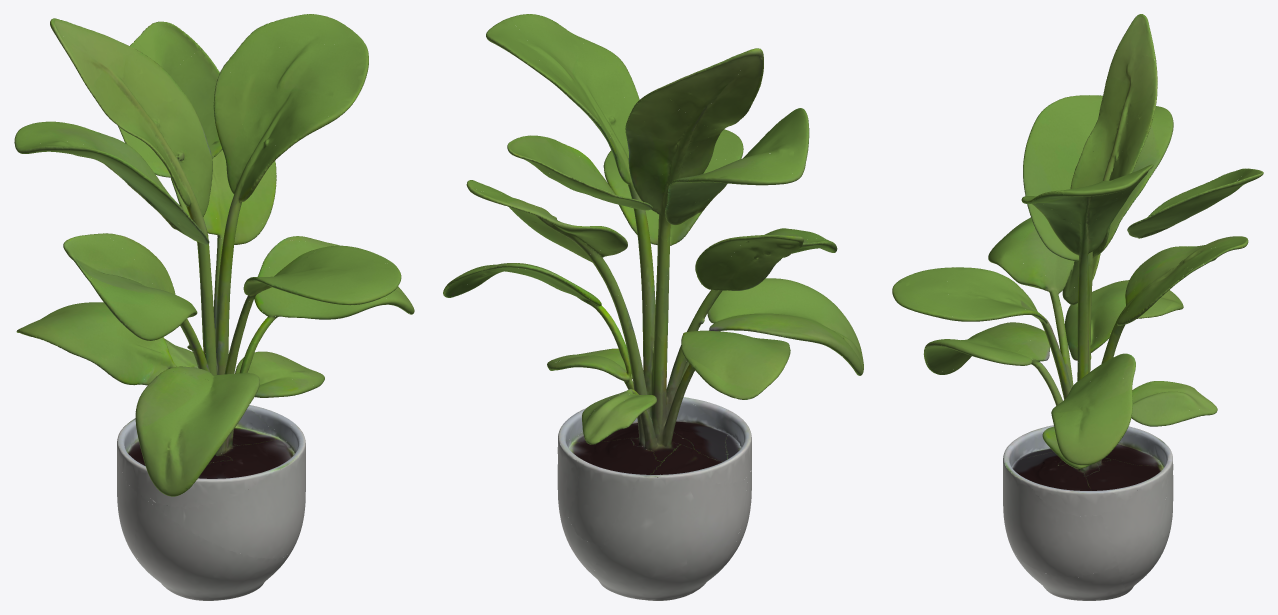
3 renders of one model, left to right at view 1: azimuth 30°, elevation 25°; view 2: azimuth 150°, elevation 25°; view 3: azimuth 270°, elevation 25°, orthographic. The views are drawn at different scales.
Visible parts, largest first — view 1: tripo_node_cc99a4b5-11e0-4413-add9-3fecb15b06b0; view 2: tripo_node_cc99a4b5-11e0-4413-add9-3fecb15b06b0; view 3: tripo_node_cc99a4b5-11e0-4413-add9-3fecb15b06b0.
Boxes of the visible parts, box(x1,y1,x2,y2) form: tripo_node_cc99a4b5-11e0-4413-add9-3fecb15b06b0: box(14, 14, 414, 600); tripo_node_cc99a4b5-11e0-4413-add9-3fecb15b06b0: box(443, 14, 863, 600); tripo_node_cc99a4b5-11e0-4413-add9-3fecb15b06b0: box(892, 14, 1263, 600).
Size of the model in its own units: 0.6712 by 1 by 0.6586.
1 material, 1 textured.
